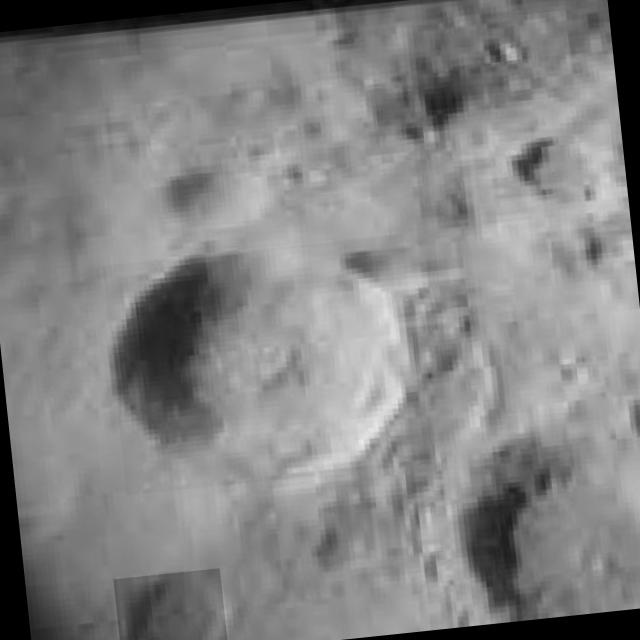crater: (103, 234, 428, 495), (446, 430, 640, 625), (114, 567, 229, 640)
